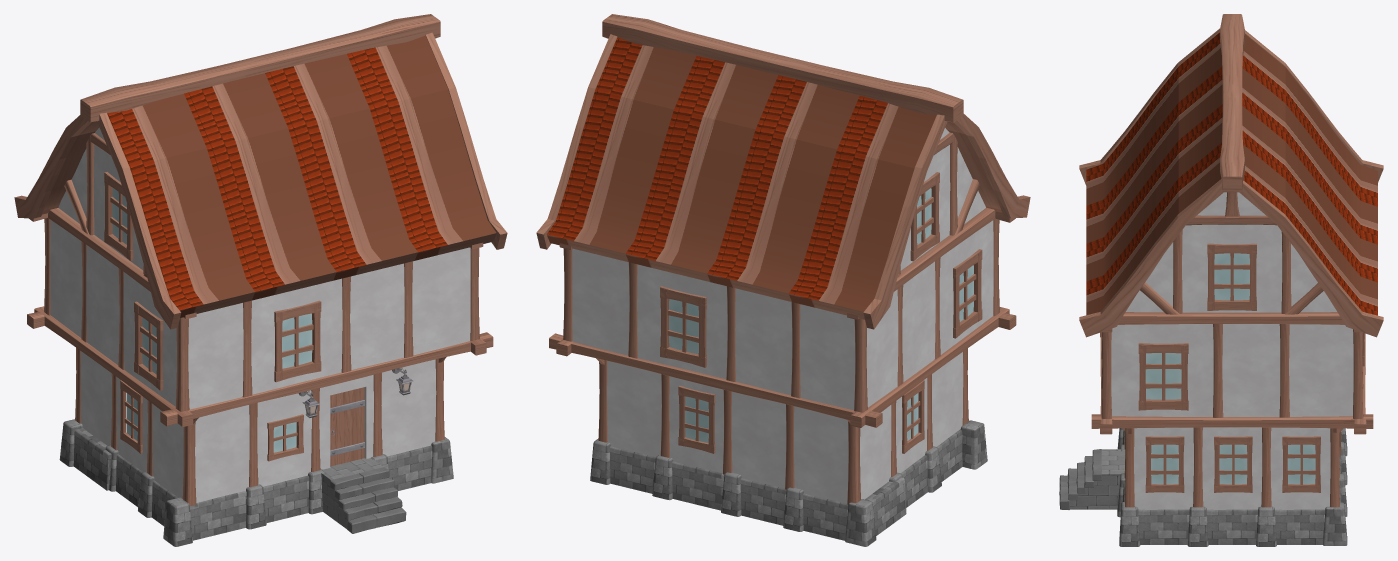
Rendered from house_01.fbx.
The picture shows the model from 3 angles, left to right: view 1: azimuth 30°, elevation 25°; view 2: azimuth 150°, elevation 25°; view 3: azimuth 270°, elevation 25°; orthographic projection. The views are drawn at different scales.
Visible parts, largest first — view 1: roof_03_018, roof_03_017, roof_03_019, roof_03_001, wall_05_001, support_09, wall_01_010, cover_03_002, wall_01_008, wall_01_009, wall_05_004, Stone_Stairs_002 (+36 smaller); view 2: roof_03_021, roof_03_022, roof_03_020, roof_03_023, wall_05_003, support_09, cover_03_002, wall_01_013, wall_01_014, wall_05_004, wall_01_015, wall_01_003 (+35 smaller); view 3: wall_05_002, wall_05_006, cover_03_001, wall_01_012, wall_01_011, roof_03_017, roof_03_018, roof_03_021, roof_03_022, roof_03_001, wall_06_002, roof_03_023 (+27 smaller).
Part boxes in pixels (box(x1,y1,x2,y2)): roof_03_018: box(265, 54, 417, 280); roof_03_017: box(184, 73, 336, 300); roof_03_019: box(347, 35, 496, 260); roof_03_001: box(107, 93, 254, 317); wall_05_001: box(251, 278, 342, 394); support_09: box(80, 14, 440, 122); wall_01_010: box(412, 247, 470, 355); cover_03_002: box(14, 112, 181, 329); wall_01_008: box(188, 303, 243, 409); wall_01_009: box(350, 263, 404, 369); wall_05_004: box(123, 272, 176, 406); Stone_Stairs_002: box(321, 458, 406, 533); roof_03_021: box(625, 56, 778, 281); roof_03_022: box(707, 75, 859, 301); roof_03_020: box(546, 37, 696, 262); roof_03_023: box(788, 95, 936, 319); wall_05_003: box(637, 264, 727, 378); support_09: box(602, 14, 963, 122); cover_03_002: box(863, 114, 1030, 329); wall_01_013: box(572, 248, 629, 355); wall_01_014: box(735, 288, 792, 395); wall_05_004: box(939, 220, 993, 354); wall_01_015: box(800, 304, 855, 410); wall_01_003: box(607, 361, 661, 456); wall_05_002: box(1111, 324, 1213, 416); wall_05_006: box(1182, 224, 1282, 312); cover_03_001: box(1079, 179, 1383, 337); wall_01_012: box(1289, 324, 1353, 416); wall_01_011: box(1222, 324, 1280, 416); roof_03_017: box(1086, 67, 1222, 243); roof_03_018: box(1086, 104, 1222, 281); roof_03_021: box(1242, 106, 1377, 282); roof_03_022: box(1242, 68, 1377, 244); roof_03_001: box(1086, 32, 1222, 205); wall_06_002: box(1202, 427, 1262, 509); roof_03_023: box(1242, 34, 1377, 206).
Bounding box in the file's own units: 420 × 471 × 354.
